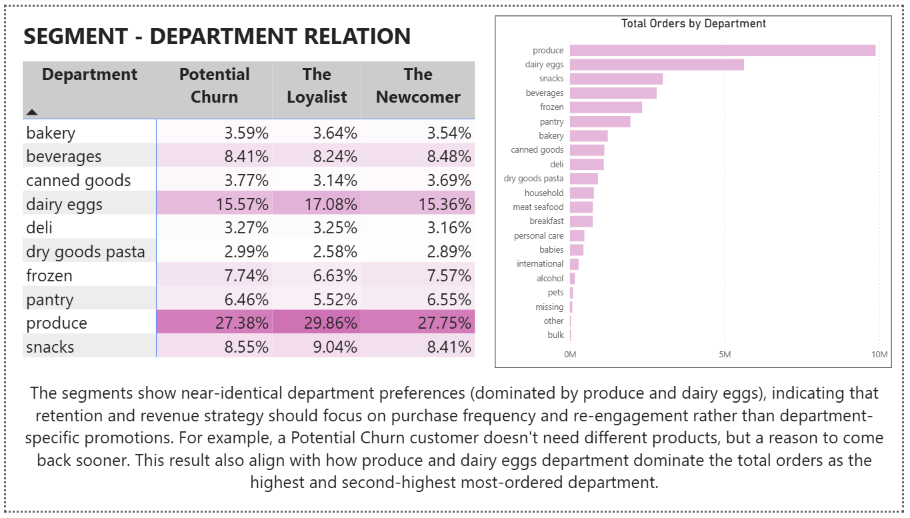

What the dashboard file says about the page in this screenshot:
{"tool":"powerbi","page":{"name":"Page 2","canvas":[1280,720],"ordinal":1},"visuals":[{"type":"pivotTable","fields":{"Rows":["segment_department_relation.department"],"Values":["Sum(segment_department_relation.segment_orders_percentage)"],"Columns":["segment_department_relation.segment"]},"box":[18.3,73.3,666.7,443.3],"z":0},{"type":"textbox","box":[18.3,13.3,566.7,60],"z":1000},{"type":"clusteredBarChart","title":"Total Orders by Department","fields":{"Y":["Sum(segment_department_relation.total_orders)"],"Category":["segment_department_relation.department"]},"box":[698.3,13.3,566.7,503.3],"z":2000},{"type":"textbox","box":[16.7,528.3,1246.7,180],"z":3000}]}

Visuals, with their boxes in screenshot pixels (x1, y1, x2, y2), scaled from the page's 1280x720 canvas onto the 910x518 screenshot:
pivotTable - segment_department_relation.department x Sum(segment_department_relation.segment_orders_percentage): pyautogui.locateOnScreen(13, 53, 487, 372)
textbox: pyautogui.locateOnScreen(13, 10, 416, 53)
"Total Orders by Department" clusteredBarChart: pyautogui.locateOnScreen(496, 10, 899, 372)
textbox: pyautogui.locateOnScreen(12, 380, 898, 510)
